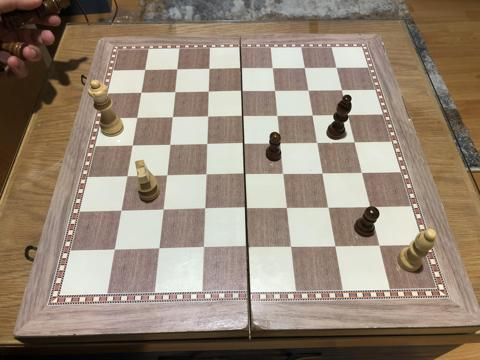xcorner: (332, 61, 344, 73), (301, 61, 313, 73), (269, 62, 281, 74), (237, 62, 249, 74), (205, 63, 217, 75), (173, 63, 185, 75), (141, 64, 153, 76), (338, 83, 350, 95), (271, 84, 283, 96), (238, 85, 250, 97), (171, 86, 183, 98), (137, 86, 149, 98), (344, 108, 356, 120), (309, 108, 321, 120), (274, 109, 286, 121), (204, 110, 216, 122), (168, 111, 180, 123), (133, 111, 145, 123), (350, 135, 362, 147), (277, 136, 289, 148), (240, 137, 252, 149), (203, 138, 215, 150), (165, 138, 177, 150), (128, 139, 140, 151), (358, 165, 370, 177), (319, 166, 331, 178), (280, 167, 292, 179), (241, 168, 253, 180), (162, 169, 174, 181), (366, 199, 378, 211), (325, 200, 337, 212), (283, 201, 295, 213), (242, 202, 254, 214), (200, 203, 212, 215), (331, 239, 343, 251), (287, 240, 299, 252), (243, 241, 255, 253), (199, 242, 211, 254), (154, 243, 166, 255), (305, 84, 317, 95), (205, 85, 216, 97), (239, 110, 251, 121), (202, 168, 213, 180), (123, 170, 134, 182), (159, 204, 170, 216), (117, 205, 128, 217), (375, 238, 387, 249), (110, 244, 121, 256), (314, 136, 325, 147)
